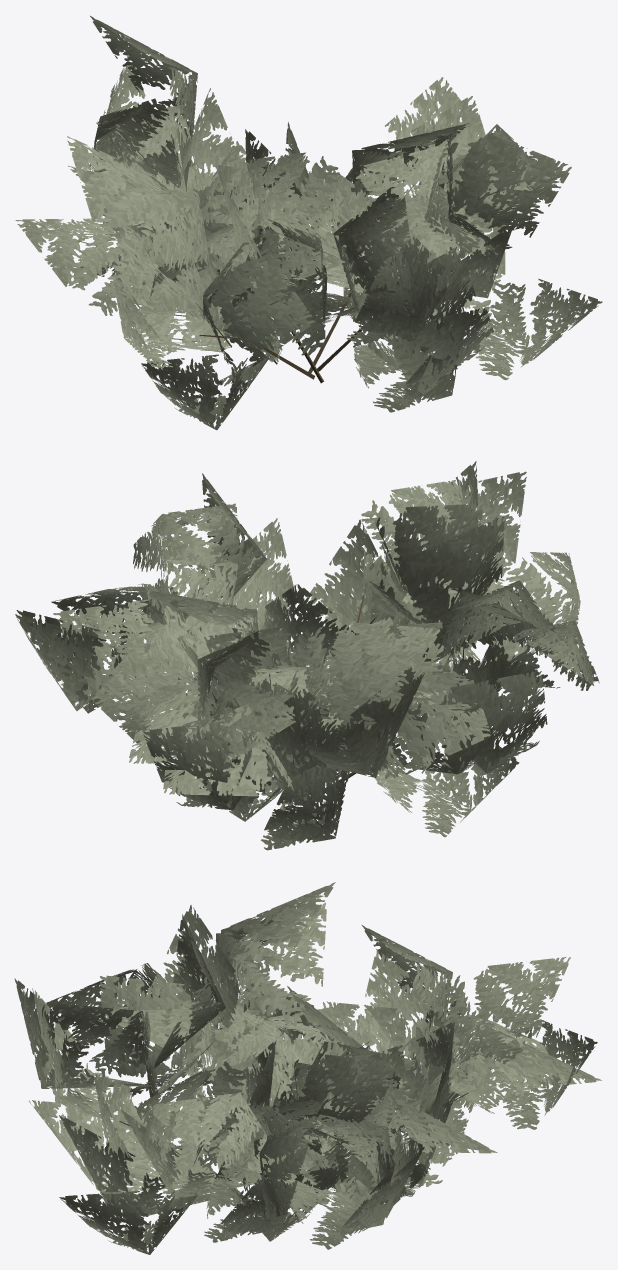
The model's file is SM_CN_Sage_B_LOD2.fbx.
The picture shows the model from 3 angles, top to bottom: view 1: azimuth 30°, elevation 25°; view 2: azimuth 150°, elevation 25°; view 3: azimuth 270°, elevation 25°; orthographic projection. The views are drawn at different scales.
Visible parts, largest first — view 1: SM_CN_Sage_B_LOD2; view 2: SM_CN_Sage_B_LOD2; view 3: SM_CN_Sage_B_LOD2.
Part boxes in pixels (<box>): SM_CN_Sage_B_LOD2: <box>15,16,602,430</box>; SM_CN_Sage_B_LOD2: <box>15,461,599,850</box>; SM_CN_Sage_B_LOD2: <box>14,882,601,1254</box>.
Size of the model in its own units: 1.2 by 1.25 by 0.62.
